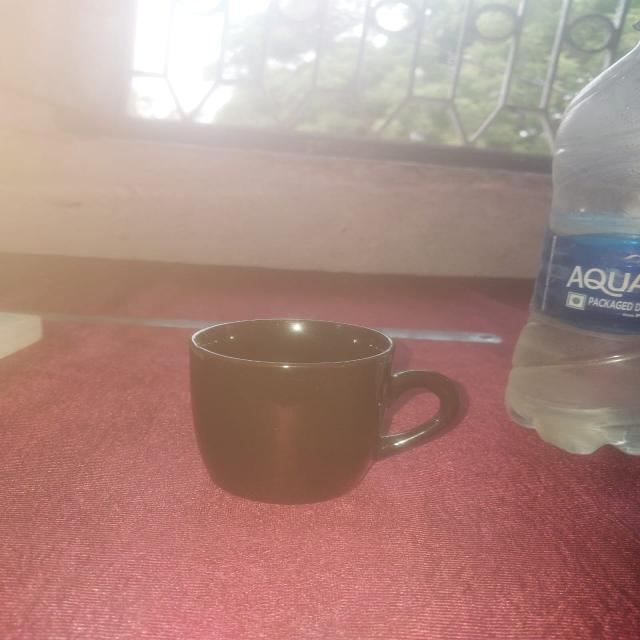Bottle: (503, 6, 639, 459)
Cup: (186, 315, 466, 504)
